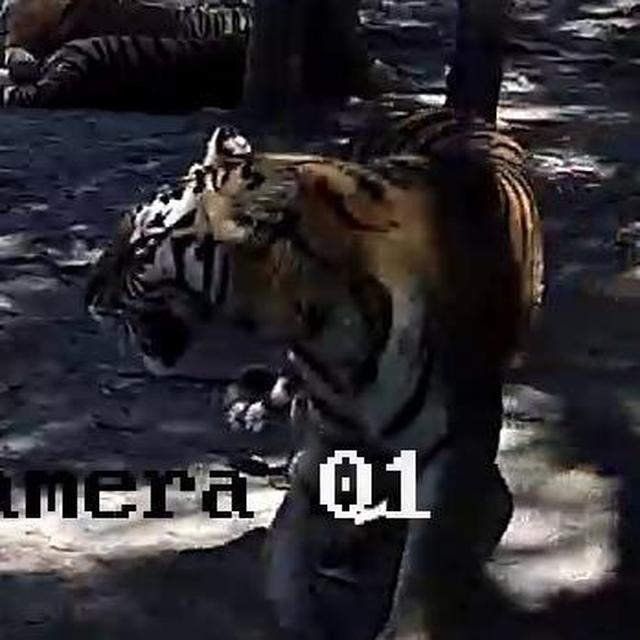tiger: (83, 112, 549, 638)
